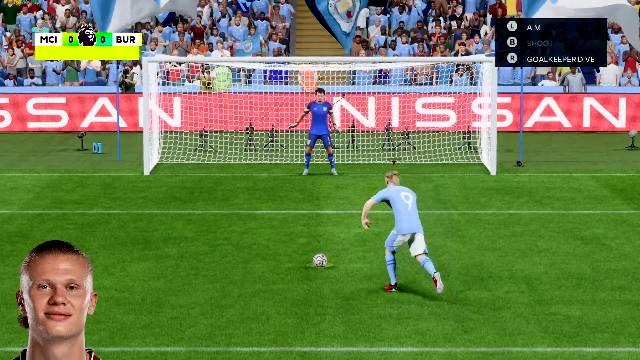bottom-left: (150, 125, 270, 177)
bottom-right: (376, 124, 488, 173)
center-down: (272, 124, 374, 176)
center-up: (272, 65, 374, 123)
circle: (306, 260, 332, 266)
football: (313, 254, 327, 264)
goalkeeper: (294, 88, 342, 180)
player: (362, 170, 444, 298)
top-left: (150, 65, 270, 123)
top-right: (375, 66, 489, 124)
